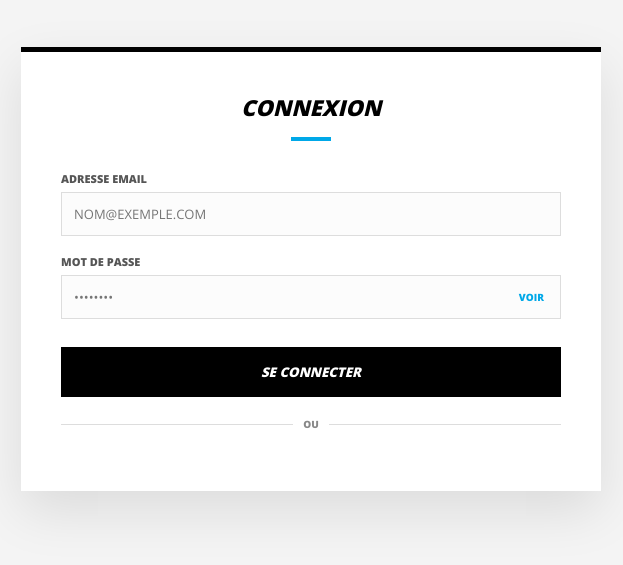
Scenario: ConnexionView.vue › affiche un message d'erreur si les identifiants sont invalides
The width and height of the screenshot is (623, 565).
In the field with placeholder "NOM@EXEMPLE.COM": (311, 214) [61, 192, 561, 236], type "test@cube.com"
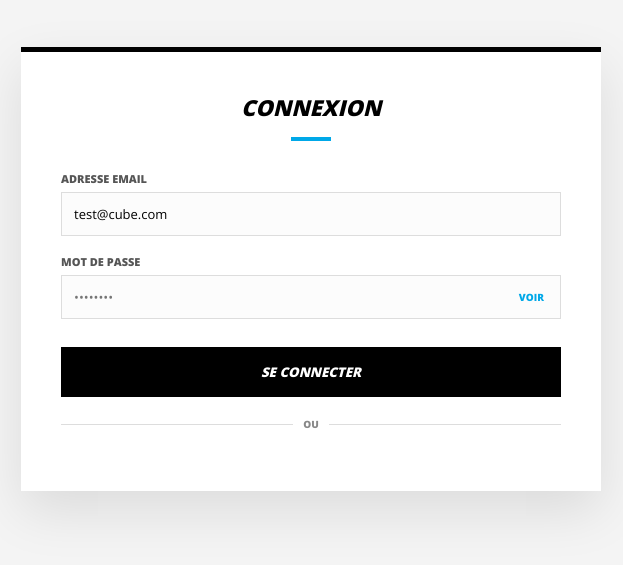
In the password field with placeholder "••••••••": (311, 297) [61, 275, 561, 319], type "mauvais_mdp"
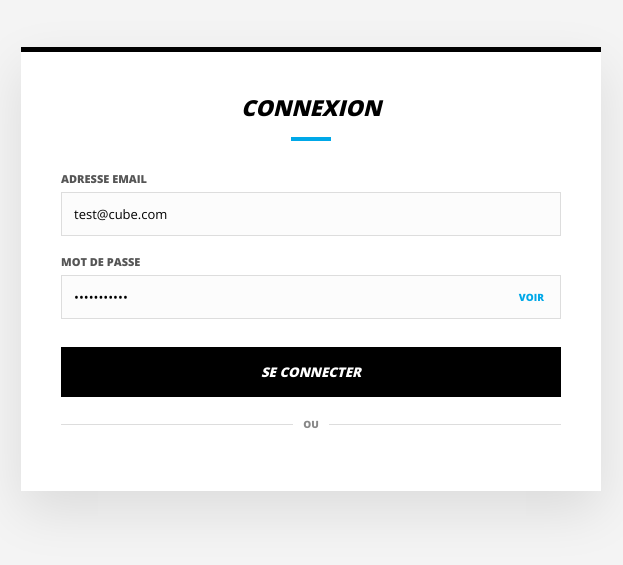
Submit the form, box [61, 171, 561, 451]
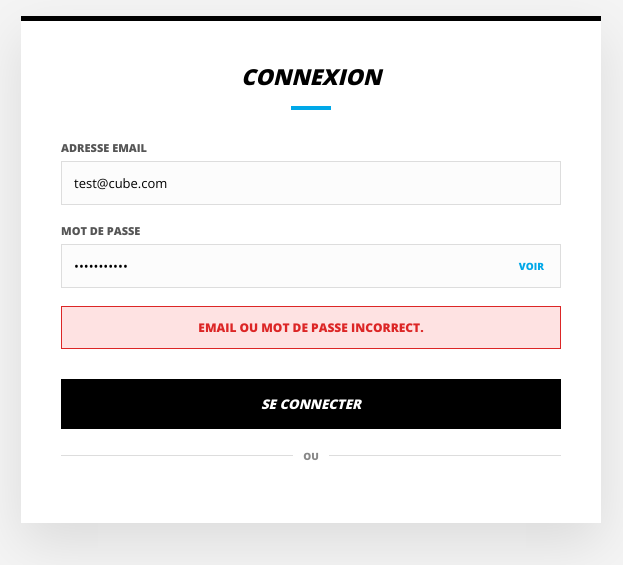
Now the text "EMAIL OU MOT DE PASSE INCORRECT." is shown, box [61, 306, 561, 348]
